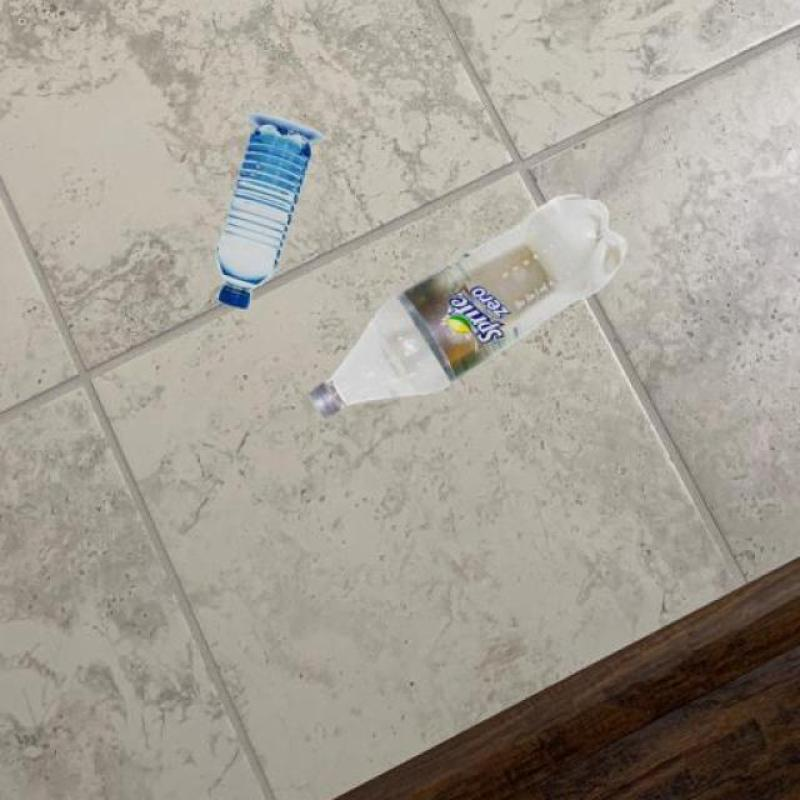botella: (303, 188, 628, 414), (214, 119, 314, 310)
